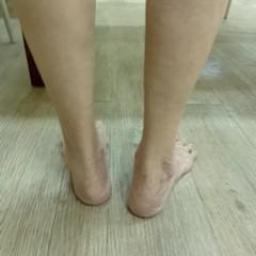Back View -Both Feet-: (38, 105, 202, 228)
